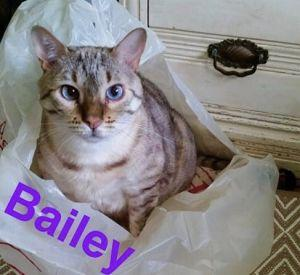bengal: (27, 19, 153, 148)
